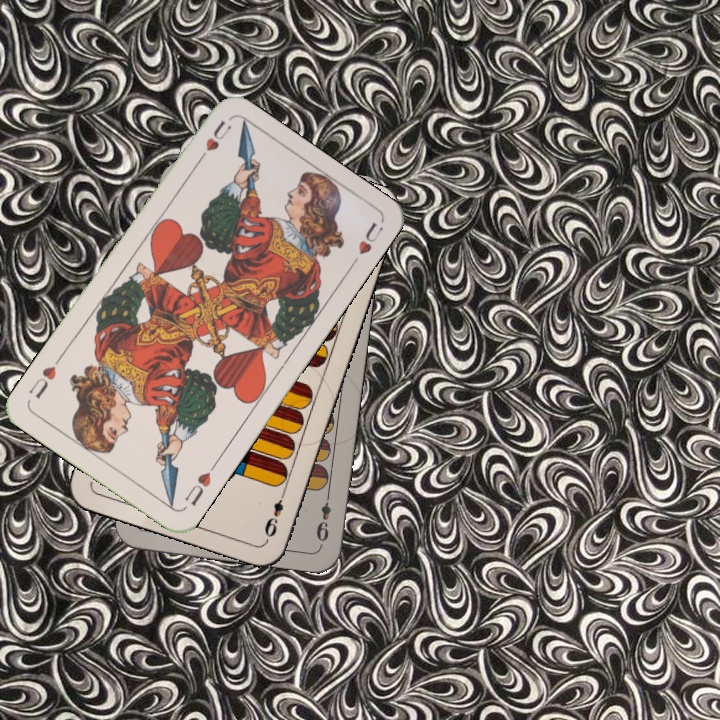E9: (260, 485, 289, 543), (312, 488, 334, 544)
HU: (192, 116, 234, 167), (180, 459, 219, 509)
